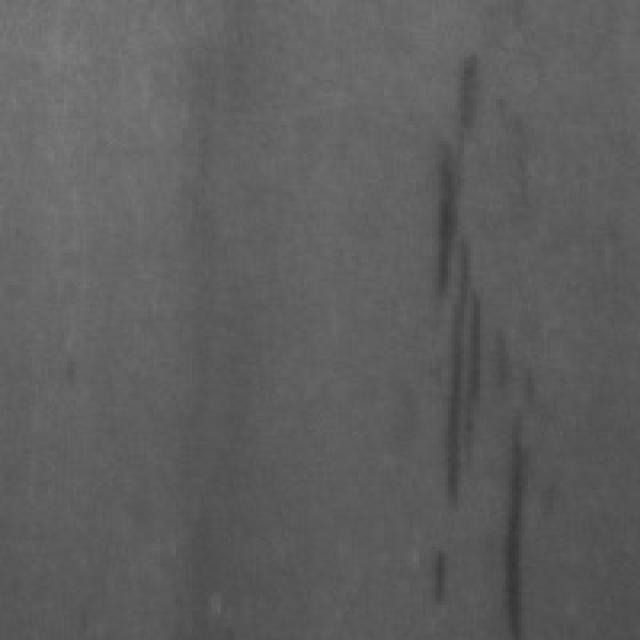inclusion: (413, 41, 515, 598), (470, 397, 541, 637)
